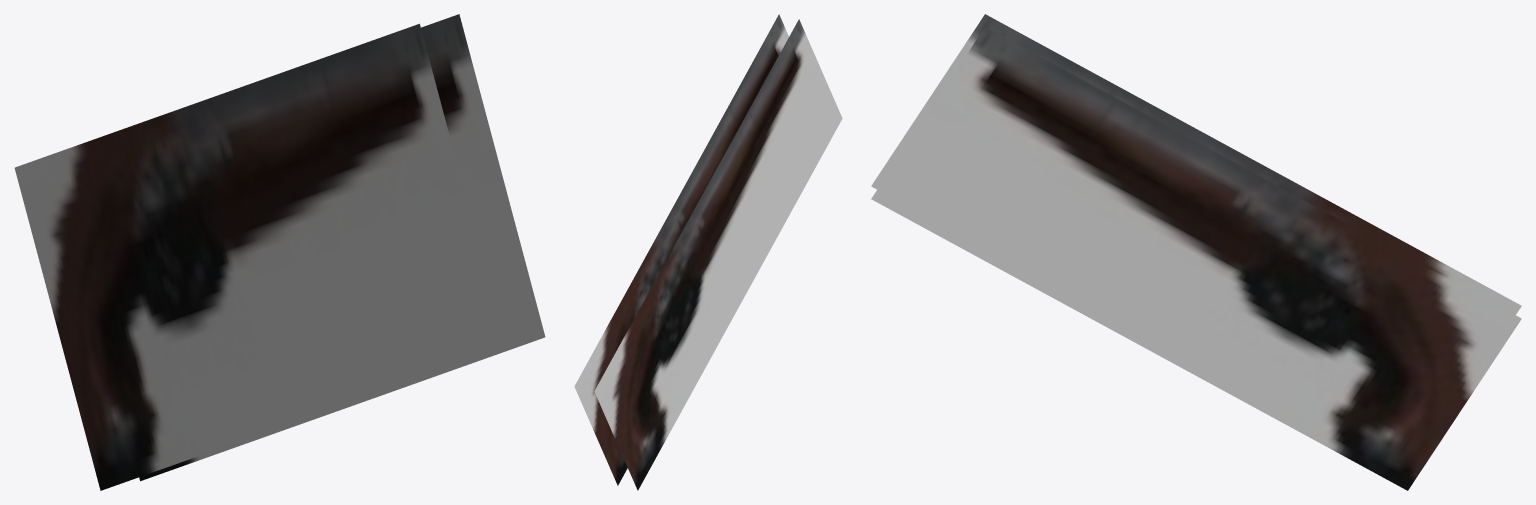
The model's file is sign1_eng_c_icon_weapons.fbx.
The picture shows the model from 3 angles, left to right: view 1: azimuth 30°, elevation 25°; view 2: azimuth 150°, elevation 25°; view 3: azimuth 270°, elevation 25°; orthographic projection. The views are drawn at different scales.
Parts seen in each view (by area): view 1: icons; view 2: icons; view 3: icons.
Boxes of the visible parts, left/top/right/bottom form: icons: left=14, top=14, right=545, bottom=490; icons: left=574, top=14, right=842, bottom=490; icons: left=871, top=14, right=1521, bottom=490.
Size of the model in its own units: 16.67 by 282 by 358.
1 material, 1 textured.
